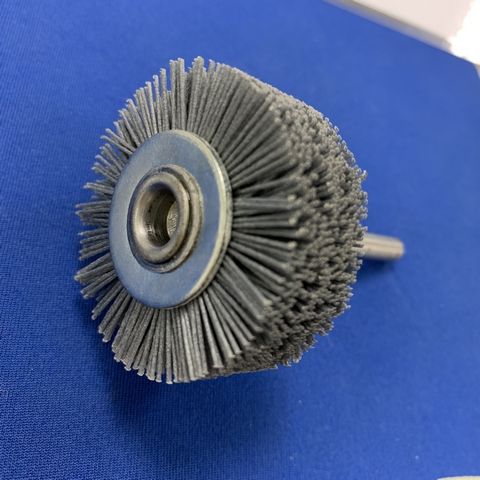Wheel Brush: (78, 49, 448, 412), (66, 59, 431, 386), (78, 58, 414, 370)
